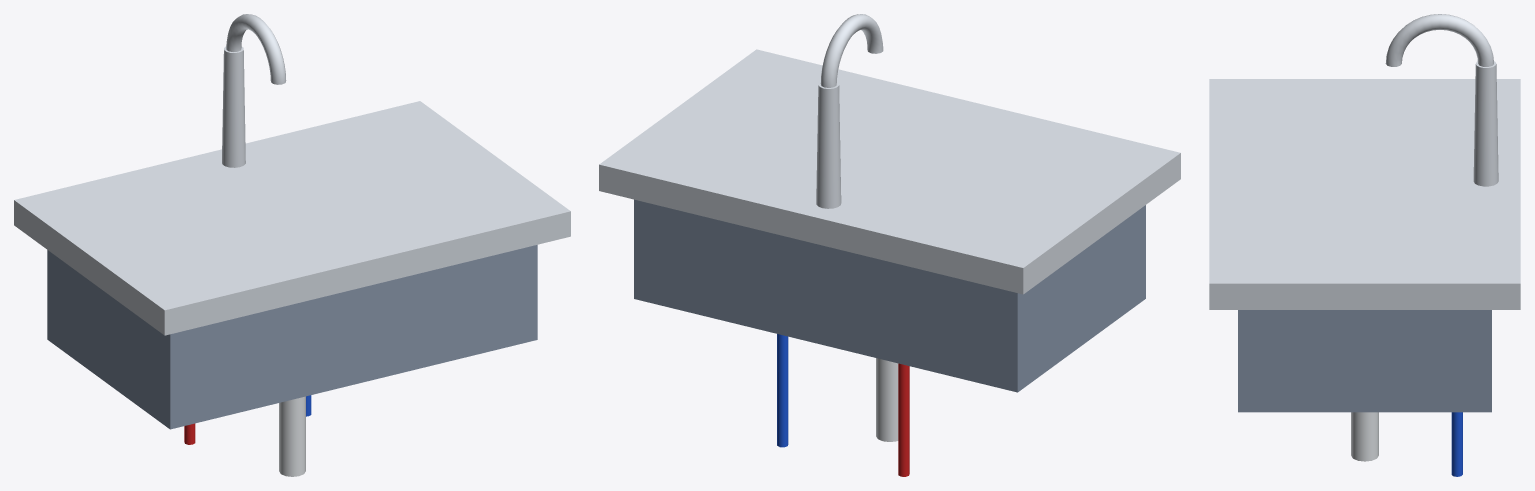
Rendered from fixture-kitchen-sink.glb.
3 renders of one model, left to right at view 1: azimuth 30°, elevation 25°; view 2: azimuth 150°, elevation 25°; view 3: azimuth 270°, elevation 25°, orthographic. The views are drawn at different scales.
Parts seen in each view (by area): view 1: plumbing-fixture-kitchen-sink; view 2: plumbing-fixture-kitchen-sink; view 3: plumbing-fixture-kitchen-sink.
Boxes of the visible parts, x1,y1,x2,y2 form: plumbing-fixture-kitchen-sink: [14, 14, 570, 476]; plumbing-fixture-kitchen-sink: [599, 14, 1180, 476]; plumbing-fixture-kitchen-sink: [1209, 14, 1520, 476].
Bounding box in the file's own units: 0.84 × 0.844 × 0.54.
